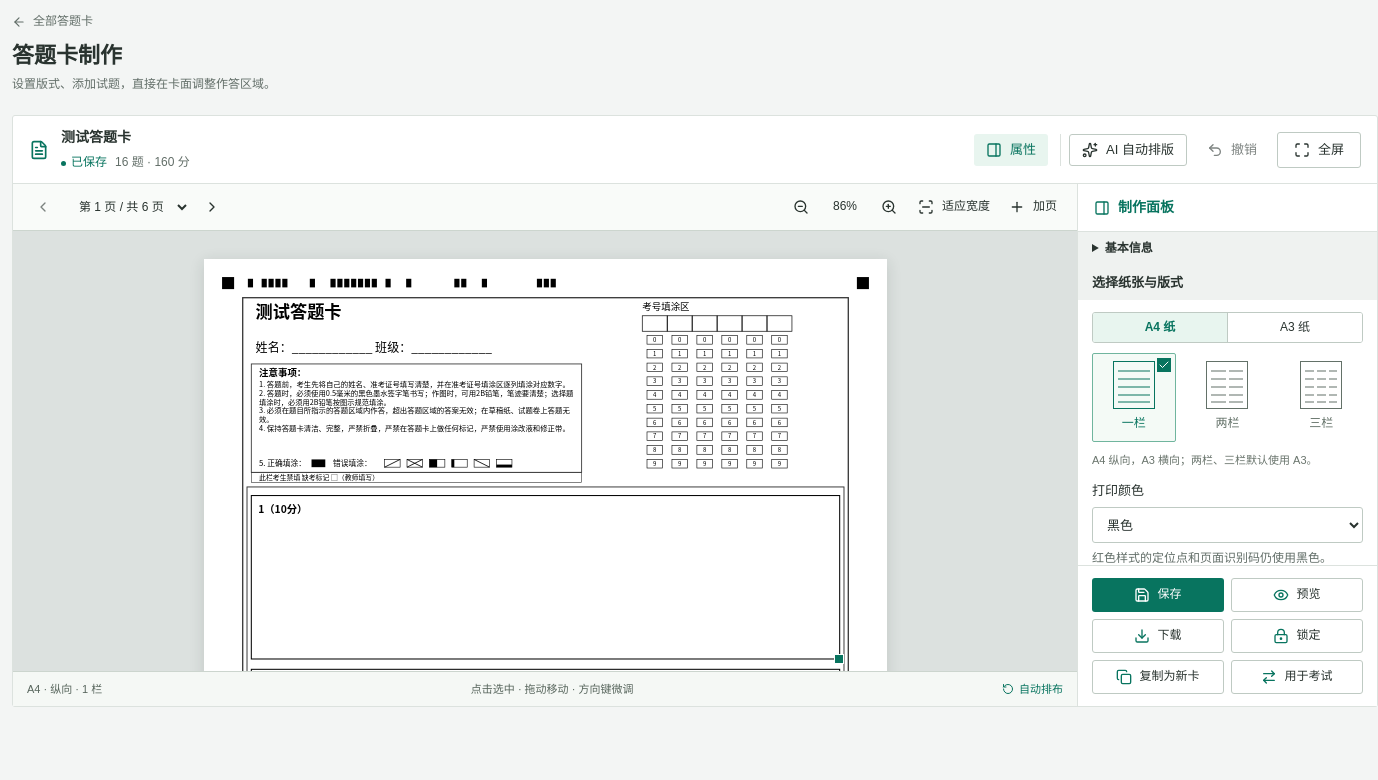
Test: keeps undo on the current page of a multi-page card instead of jumping back to page 1
Click the button named "下一页": (212, 207) [194,192,230,222]
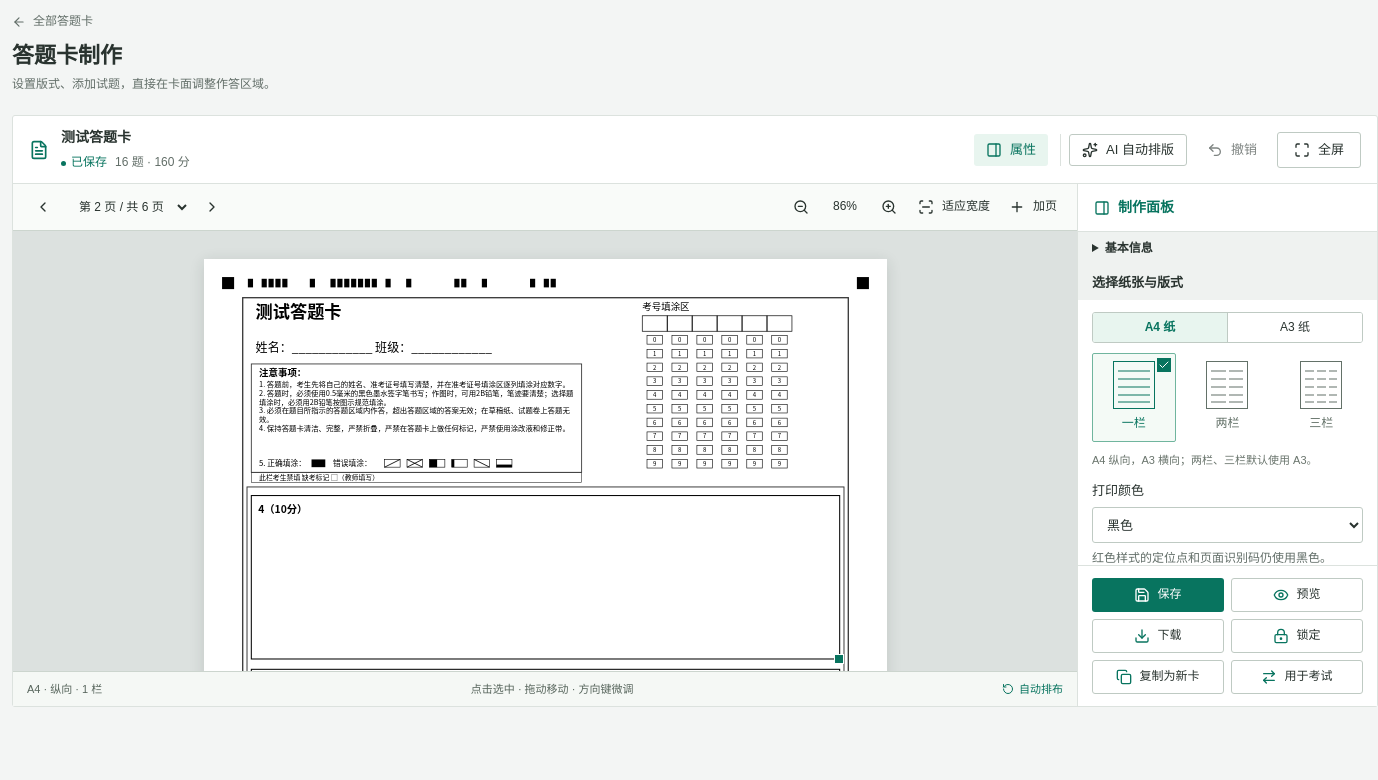
Click the button named "下一页": (212, 207) [194,192,230,222]
(page scrolled)
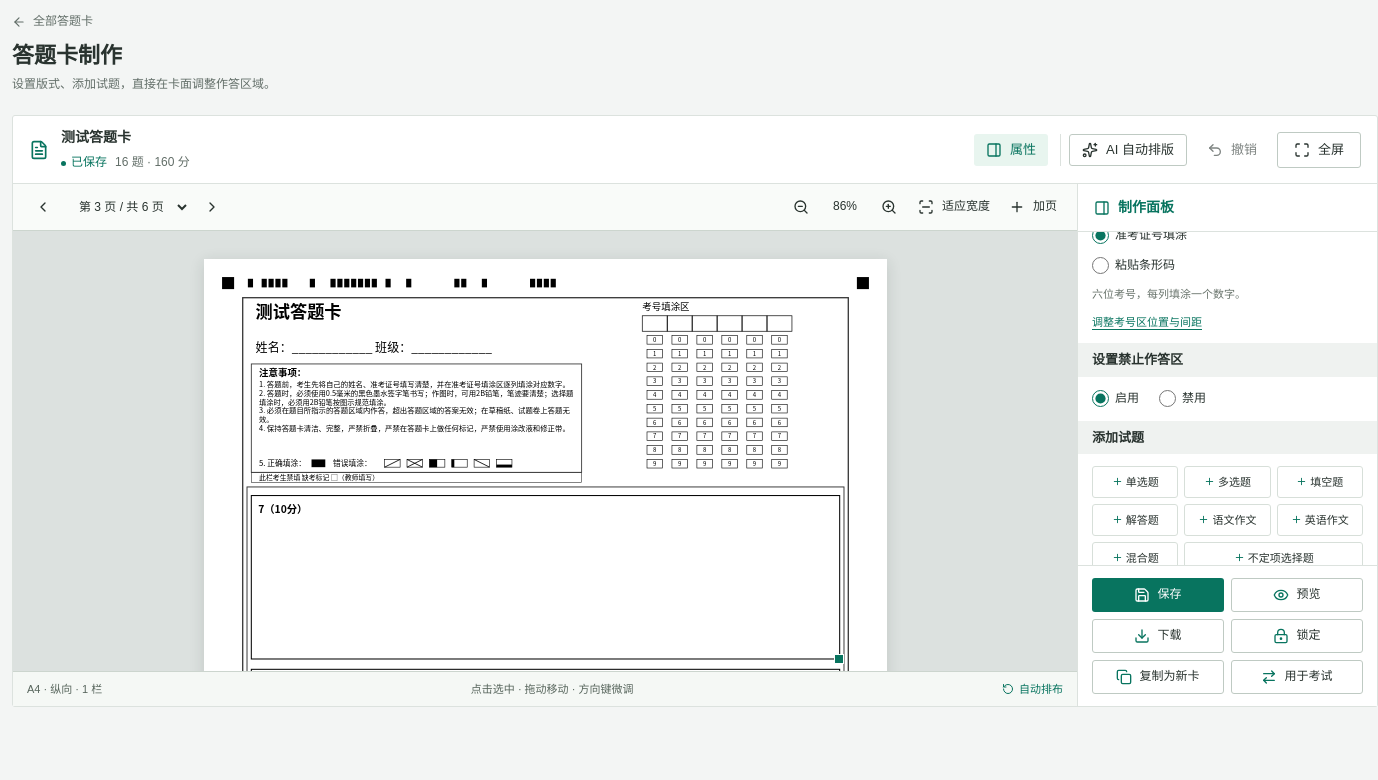
expect the dropdown named "当前答题卡页面" shows "第 3 页 / 共 6 页": met, box [64,191,191,223]
Click the radio button named "absent": (1168, 399) [1159,390,1176,407]
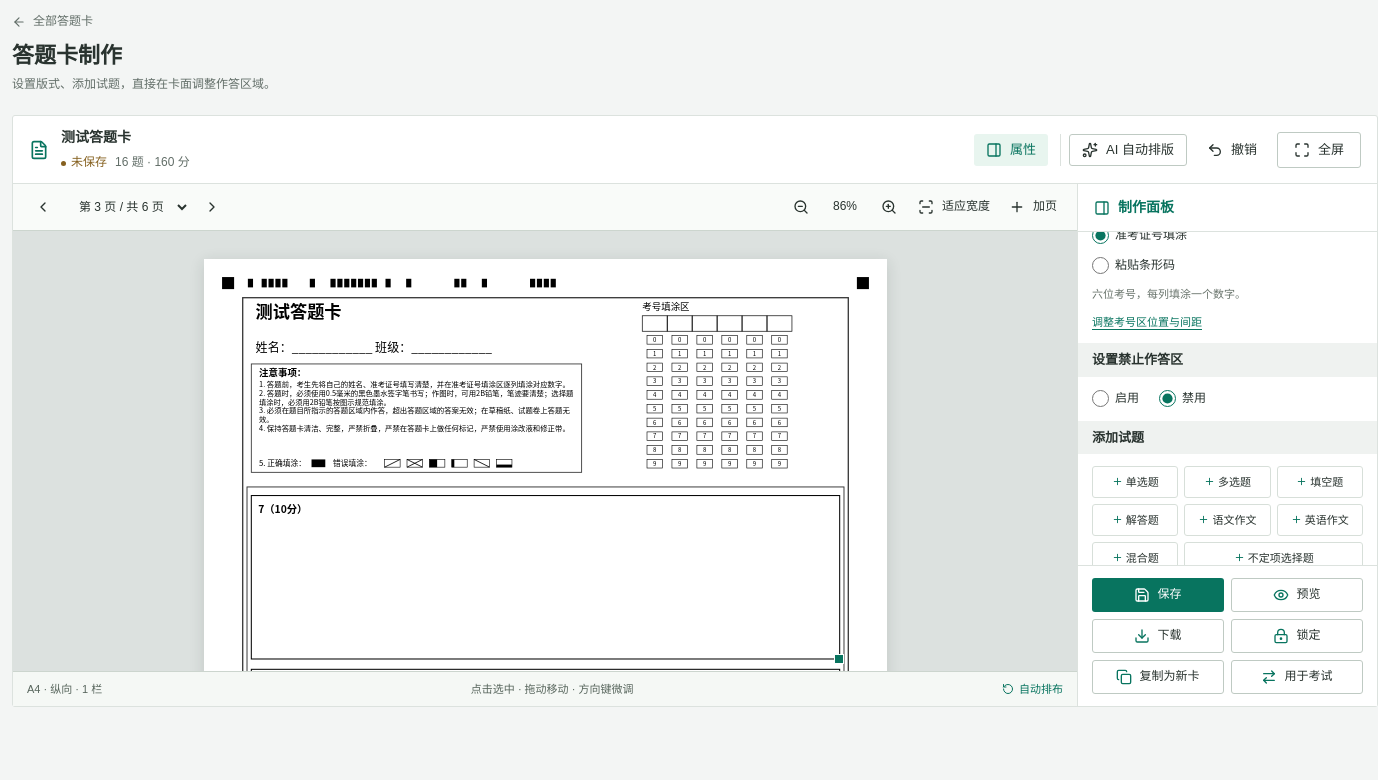
expect the radio button named "absent" is checked: met, box [1159,390,1176,407]
Click the button "撤销": (1232, 150) [1195,134,1269,166]
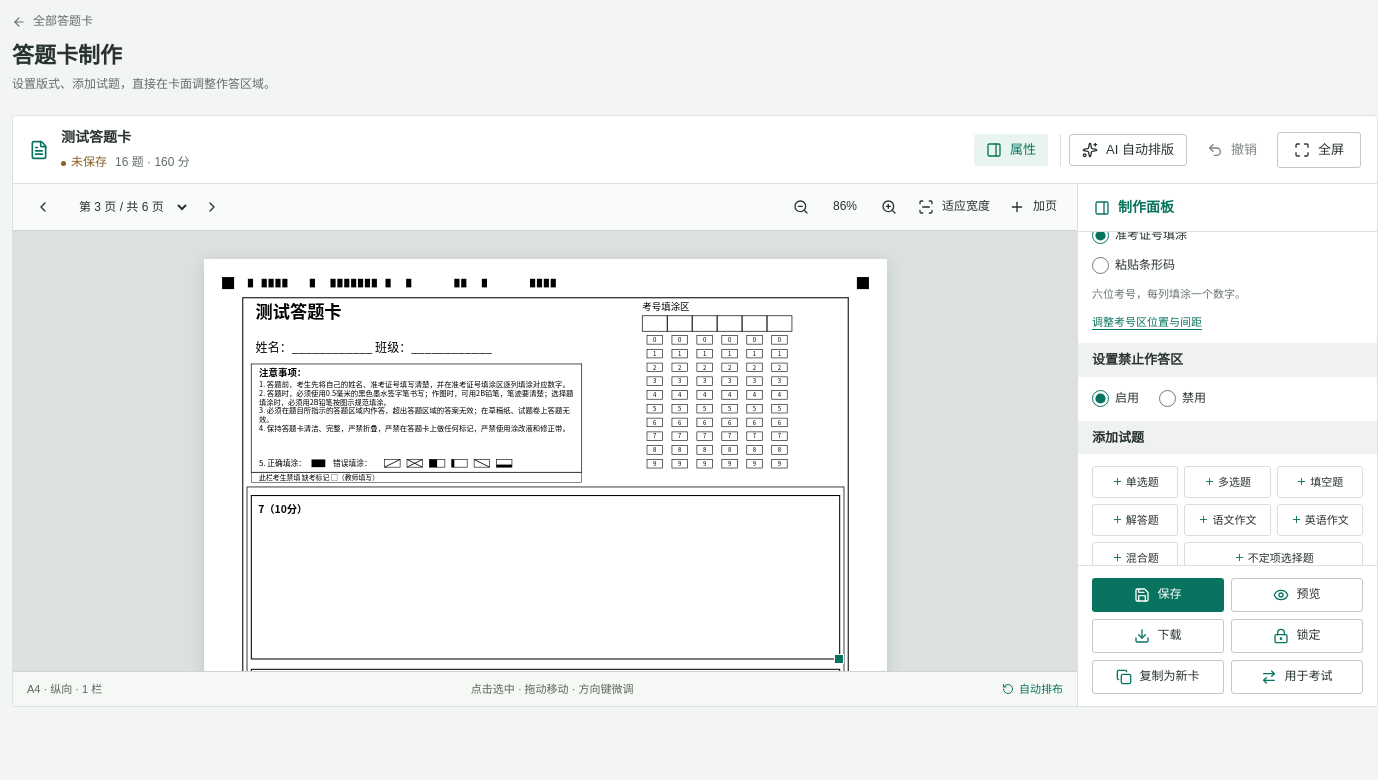
expect the dropdown named "当前答题卡页面" shows "第 3 页 / 共 6 页": met, box [64,191,191,223]
expect the radio button named "absent" is checked: met, box [1092,390,1109,407]
